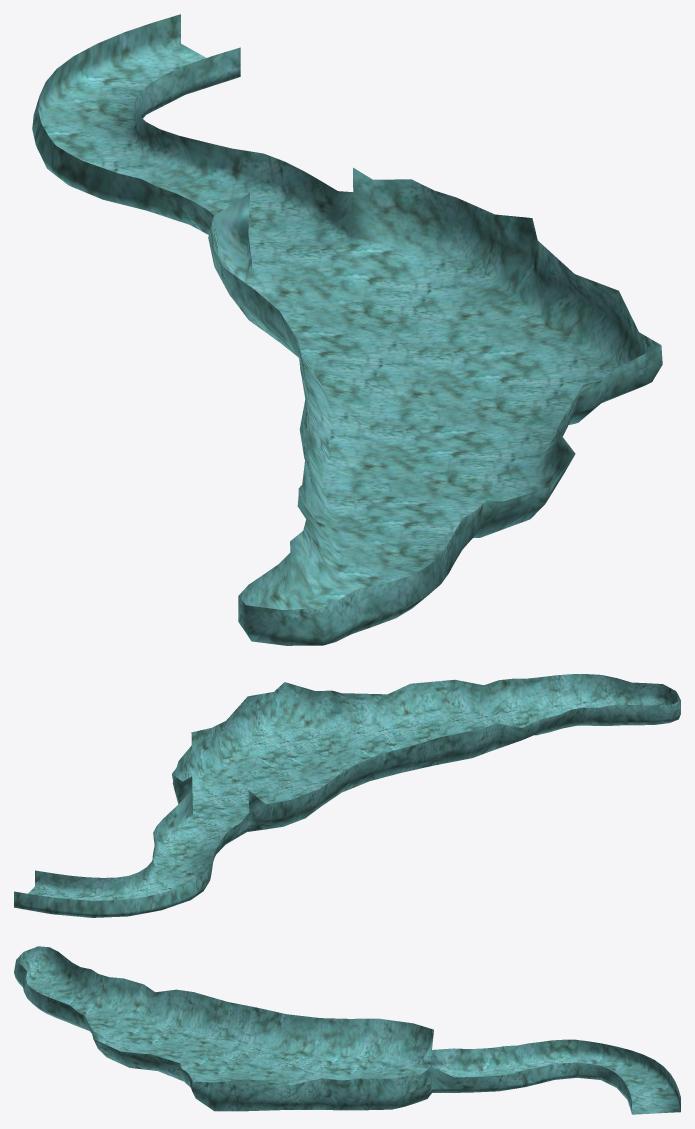
File: EKH_BARRELROOM_PS_JA1_RIVERBOTTOM_37365.fbx
3 views of the same model, one above another, from view 1: azimuth 30°, elevation 25°; view 2: azimuth 150°, elevation 25°; view 3: azimuth 270°, elevation 25° (orthographic). The views are drawn at different scales.
Visible parts, largest first — view 1: EKH_BARRELROOM_PS_JA1_RIVERBOTTOM_37365; view 2: EKH_BARRELROOM_PS_JA1_RIVERBOTTOM_37365; view 3: EKH_BARRELROOM_PS_JA1_RIVERBOTTOM_37365.
Boxes of the visible parts, box(x1,y1,x2,y2) form: EKH_BARRELROOM_PS_JA1_RIVERBOTTOM_37365: box(32, 14, 662, 645); EKH_BARRELROOM_PS_JA1_RIVERBOTTOM_37365: box(14, 674, 680, 917); EKH_BARRELROOM_PS_JA1_RIVERBOTTOM_37365: box(14, 946, 680, 1114).
Bounding box in the file's own units: 255157 × 35657 × 498707.
1 material, 1 textured.
